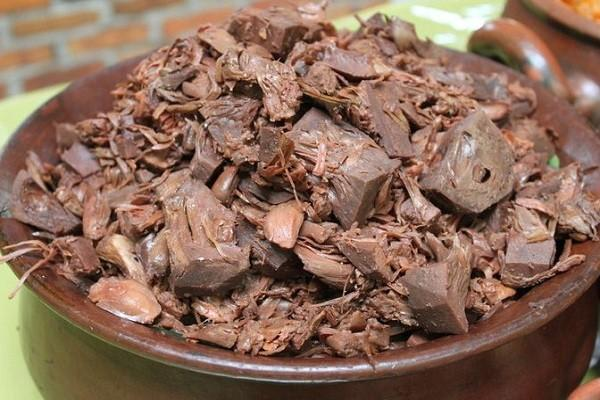gudeg: (14, 6, 600, 358)
